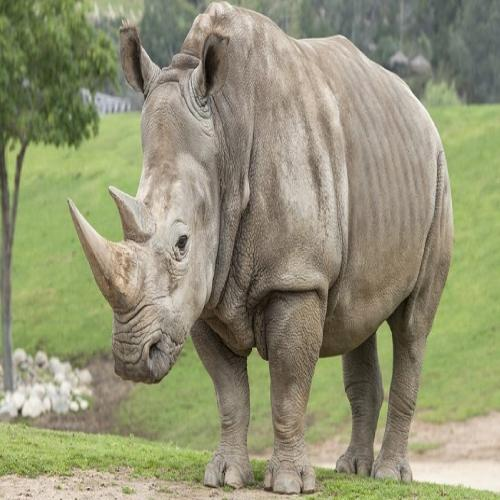rhino-endangered: (66, 8, 451, 484)
